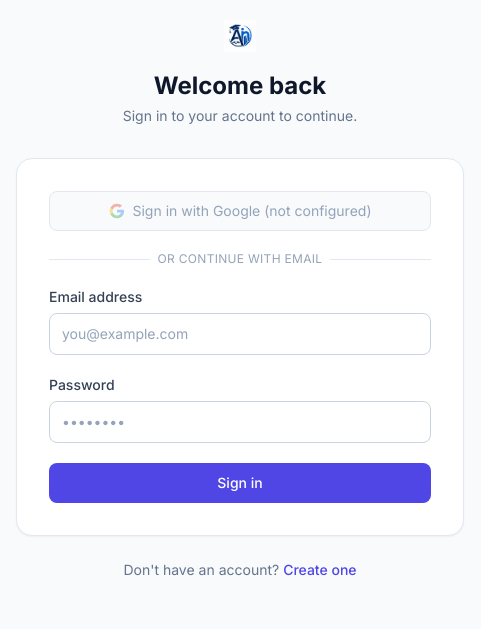
Test: Login page › shows validation errors on empty submit
Click the button "Sign in". click: (240, 483)
box: [49,463,431,503]
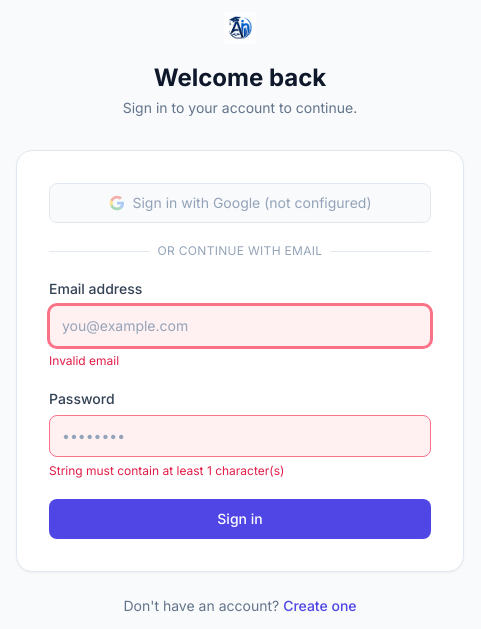
Result: the message "Invalid email" is shown at [49,353,119,368]
